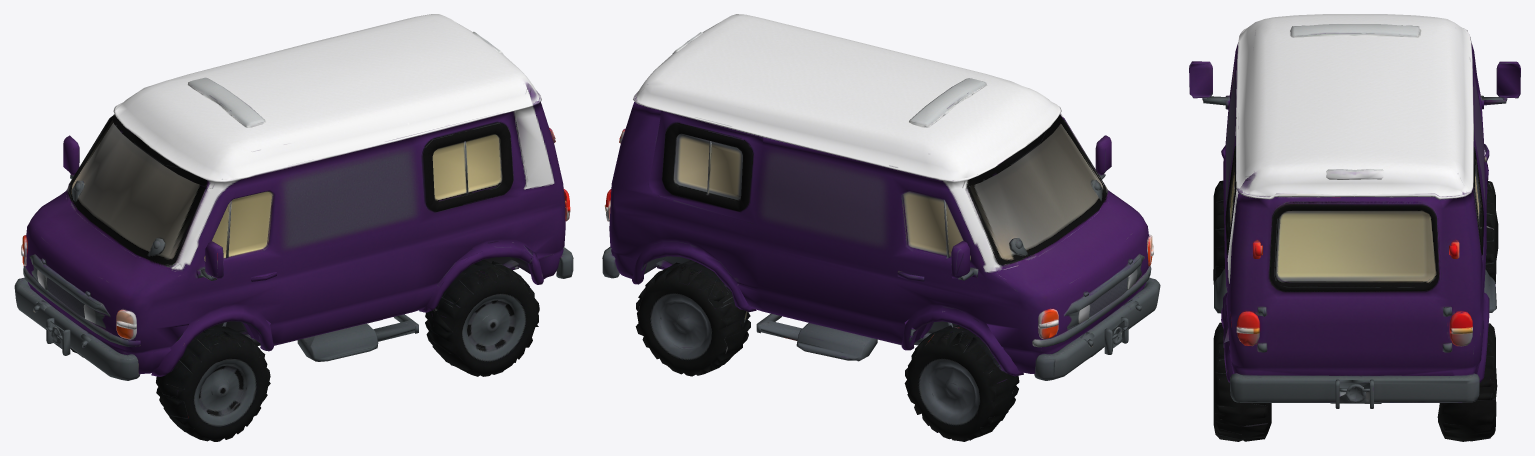
Rendered from trafficVan.bc4448a2.glb.
The picture shows the model from 3 angles, left to right: view 1: azimuth 30°, elevation 25°; view 2: azimuth 150°, elevation 25°; view 3: azimuth 270°, elevation 25°; orthographic projection. The views are drawn at different scales.
Size of the model in its own units: 0.958 by 0.5469 by 0.541.
Materials: 1 (1 with a texture image).
